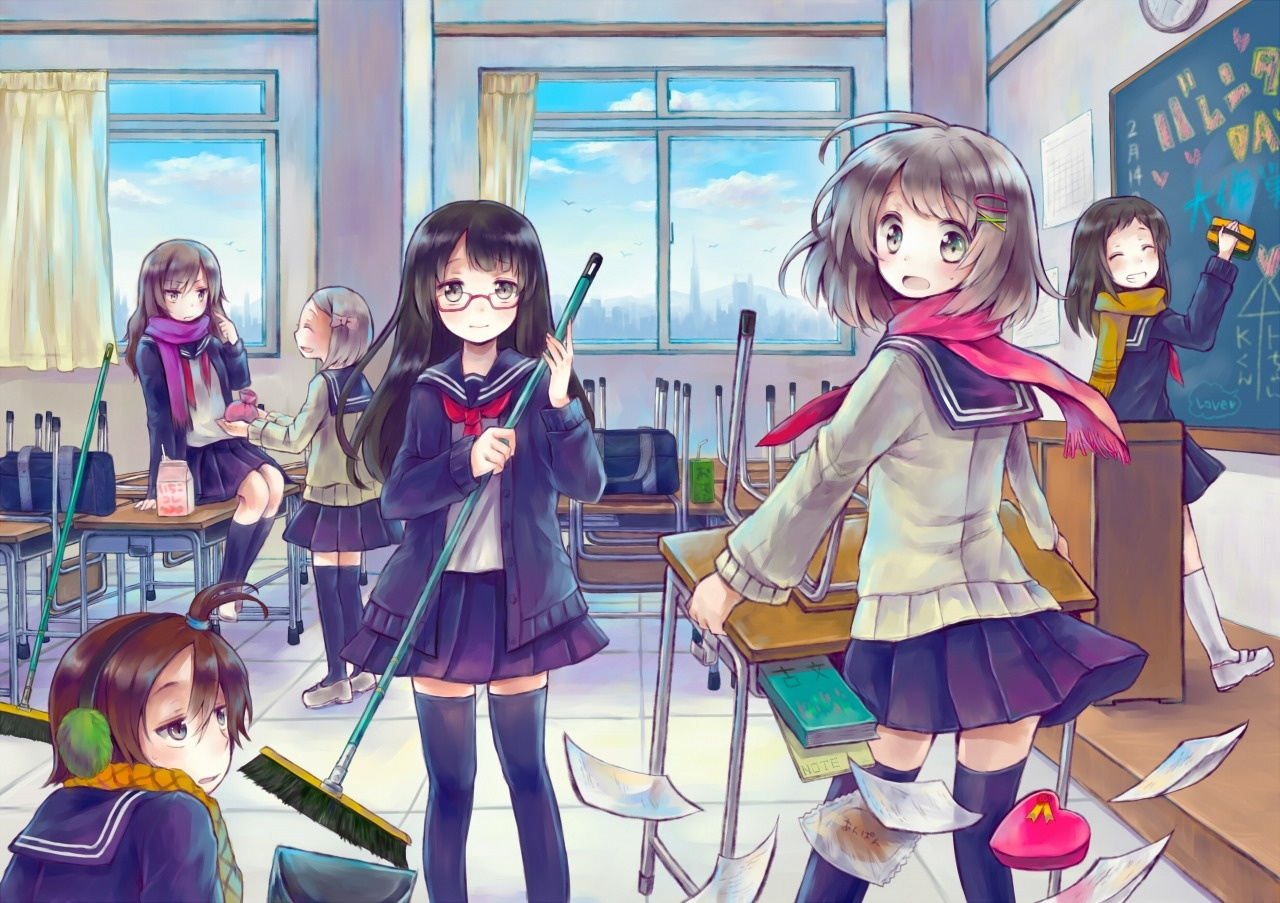纸片人正脸: (815, 115, 1041, 304), (124, 600, 244, 806), (403, 198, 552, 357), (1069, 193, 1176, 303), (131, 231, 227, 330)
